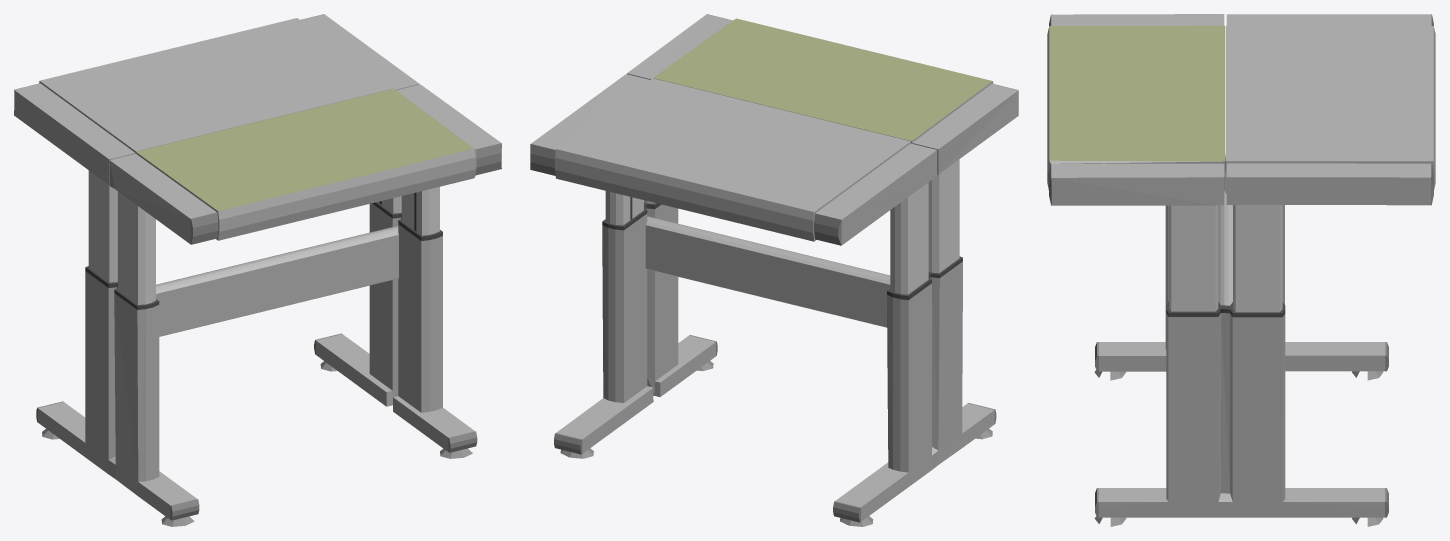
File: sh-bs0-technical-table2.glb
3 views of the same model, side by side, from view 1: azimuth 30°, elevation 25°; view 2: azimuth 150°, elevation 25°; view 3: azimuth 270°, elevation 25° (orthographic). The views are drawn at different scales.
Parts seen in each view (by area): view 1: Print_board_Plane.003; view 2: Print_board_Plane.003; view 3: Print_board_Plane.003.
Boxes of the visible parts, x1,y1,x2,y2 form: Print_board_Plane.003: (14,14,501,526); Print_board_Plane.003: (530,14,1018,526); Print_board_Plane.003: (1047,14,1435,526).
Size of the model in its own units: 1 by 1 by 1.
